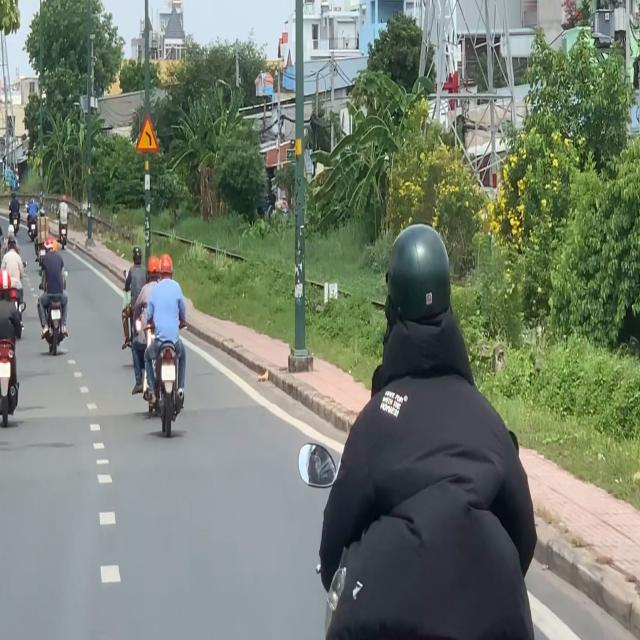Nguy hiem: (136, 116, 159, 152)
